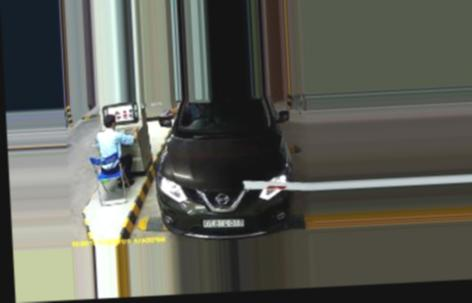License_Plate: (202, 214, 244, 229)
